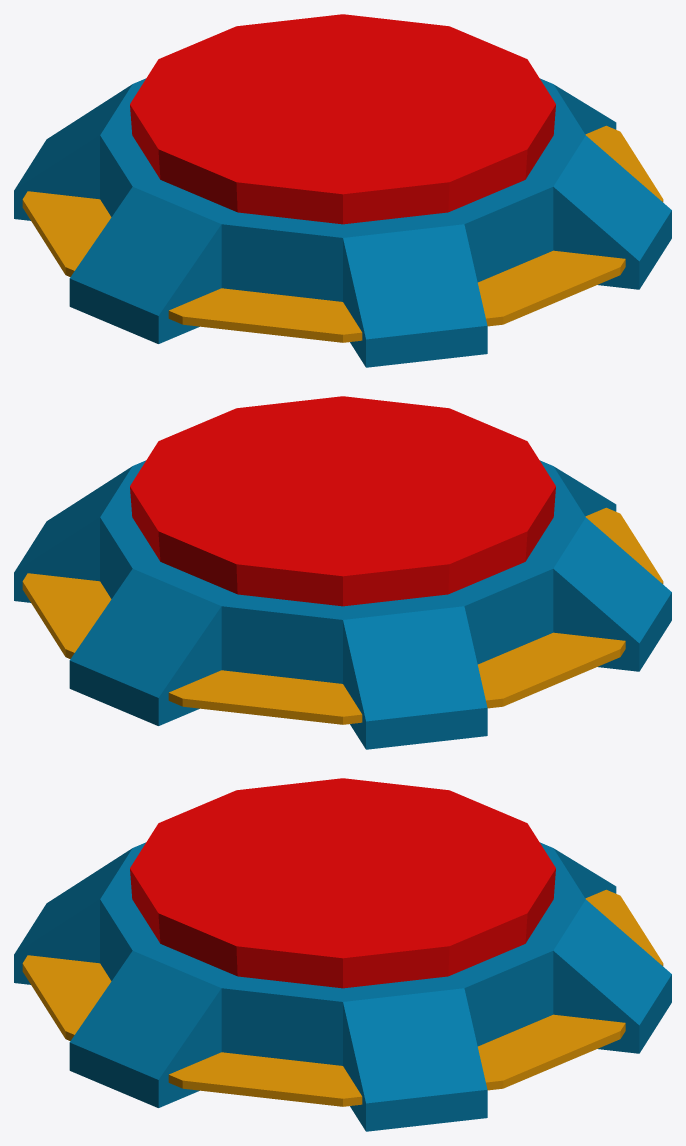
File: Button.fbx
3 views of the same model, one above another, from view 1: azimuth 30°, elevation 25°; view 2: azimuth 150°, elevation 25°; view 3: azimuth 270°, elevation 25° (orthographic).
Parts seen in each view (by area): view 1: Button; view 2: Button; view 3: Button.
Boxes of the visible parts, x1,y1,x2,y2 form: Button: (14,14,671,367); Button: (14,396,671,749); Button: (14,778,671,1131).
Size of the model in its own units: 4.28 by 0.894 by 4.28.
